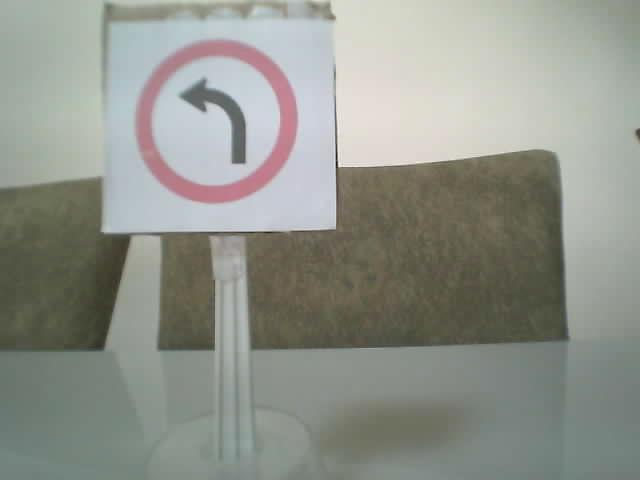R-25a_esquerda: (133, 39, 297, 204)
